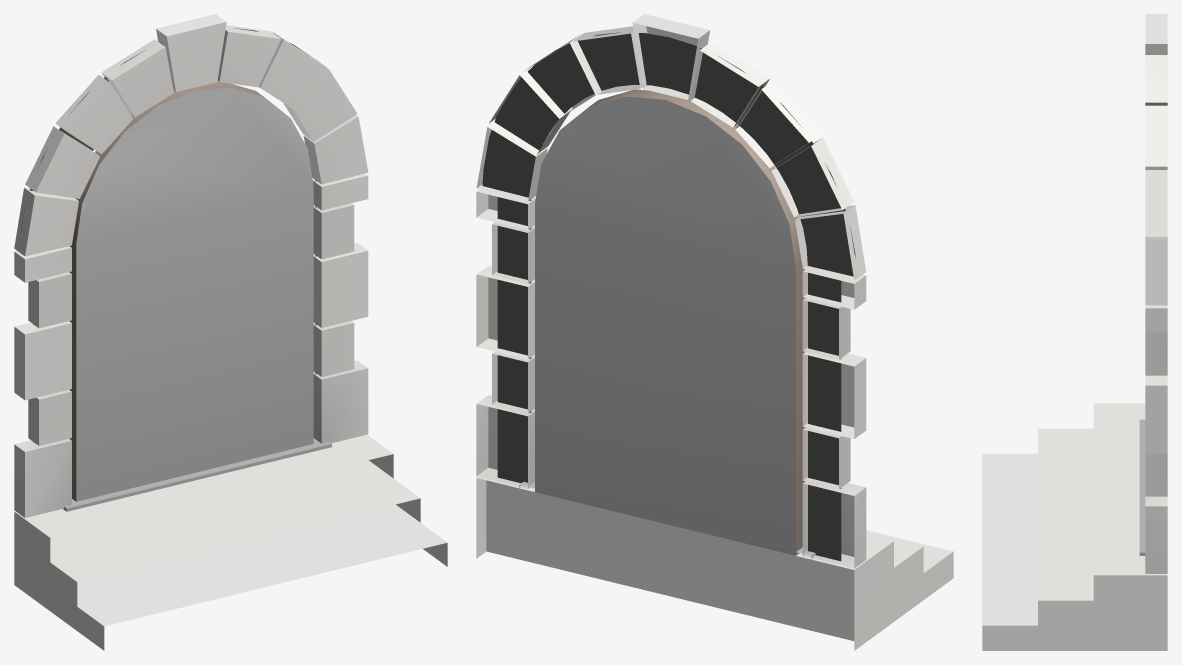
Rendered from kit_up.glb.
3 renders of one model, left to right at view 1: azimuth 30°, elevation 25°; view 2: azimuth 150°, elevation 25°; view 3: azimuth 270°, elevation 25°, orthographic. The views are drawn at different scales.
Parts seen in each view (by area): view 1: kit_up; view 2: kit_up; view 3: kit_up.
Boxes of the visible parts, <box> form: kit_up: <box>14,14,447,650</box>; kit_up: <box>476,14,953,650</box>; kit_up: <box>982,14,1167,650</box>.
Bounding box in the file's own units: 2.2 × 3.19 × 1.
